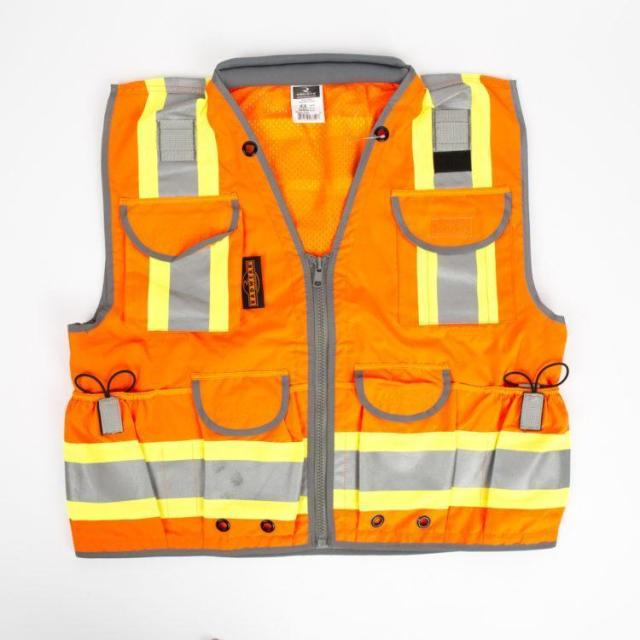Vest: (58, 53, 573, 554)
